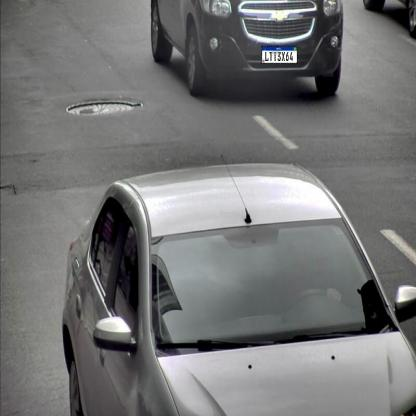PlacaM: (262, 46, 298, 64)
